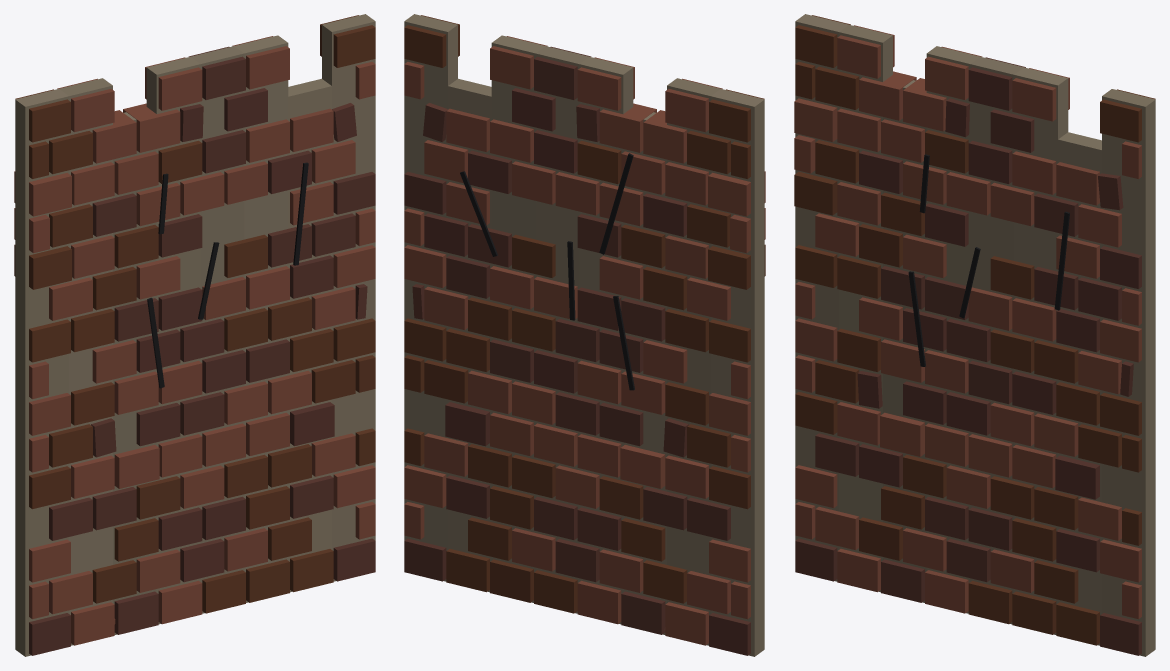
File: piece_wall_brick_damaged.fbx
3 renders of one model, left to right at view 1: azimuth 30°, elevation 25°; view 2: azimuth 150°, elevation 25°; view 3: azimuth 330°, elevation 25°, orthographic.
Parts seen in each view (by area): view 1: piece_wall_brick_damaged; view 2: piece_wall_brick_damaged; view 3: piece_wall_brick_damaged.
Part boxes in pixels (box(x1,y1,x2,y2)): piece_wall_brick_damaged: box(14, 14, 375, 656); piece_wall_brick_damaged: box(404, 14, 765, 656); piece_wall_brick_damaged: box(794, 14, 1155, 656).
Size of the model in its own units: 2 by 3 by 0.196.
